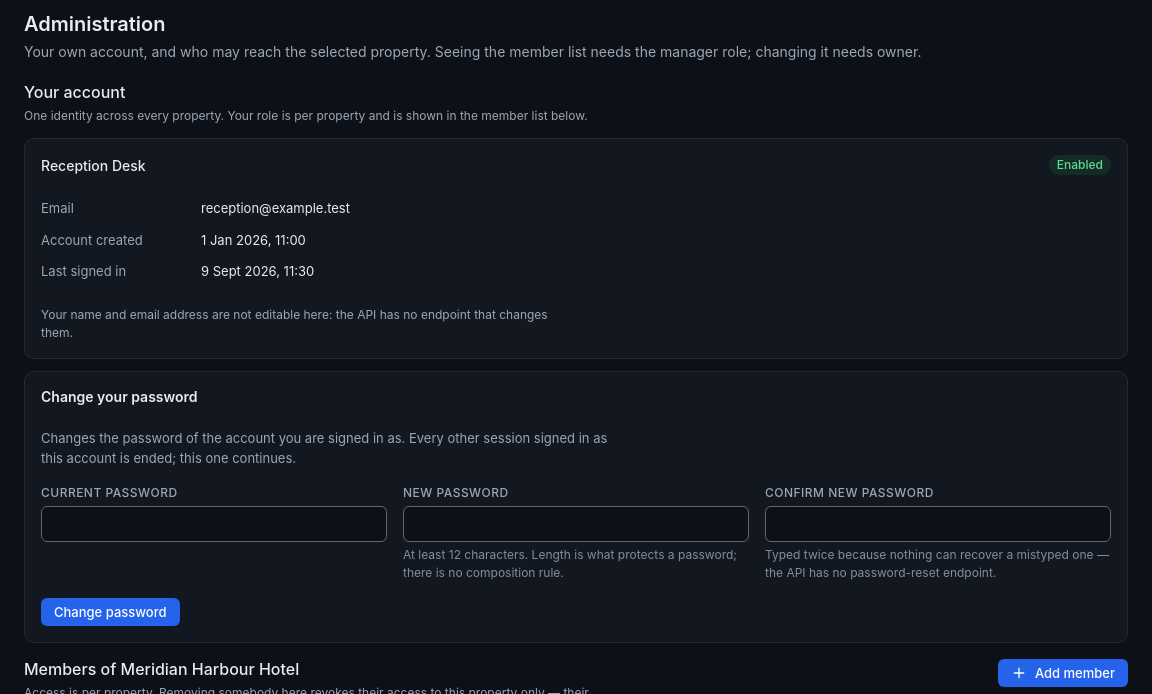
Scenario: adding a member › defaults to the lowest role
The width and height of the screenshot is (1152, 694).
Click the button "Add member" at (1063, 673), box [998,659,1128,687]
(page scrolled)
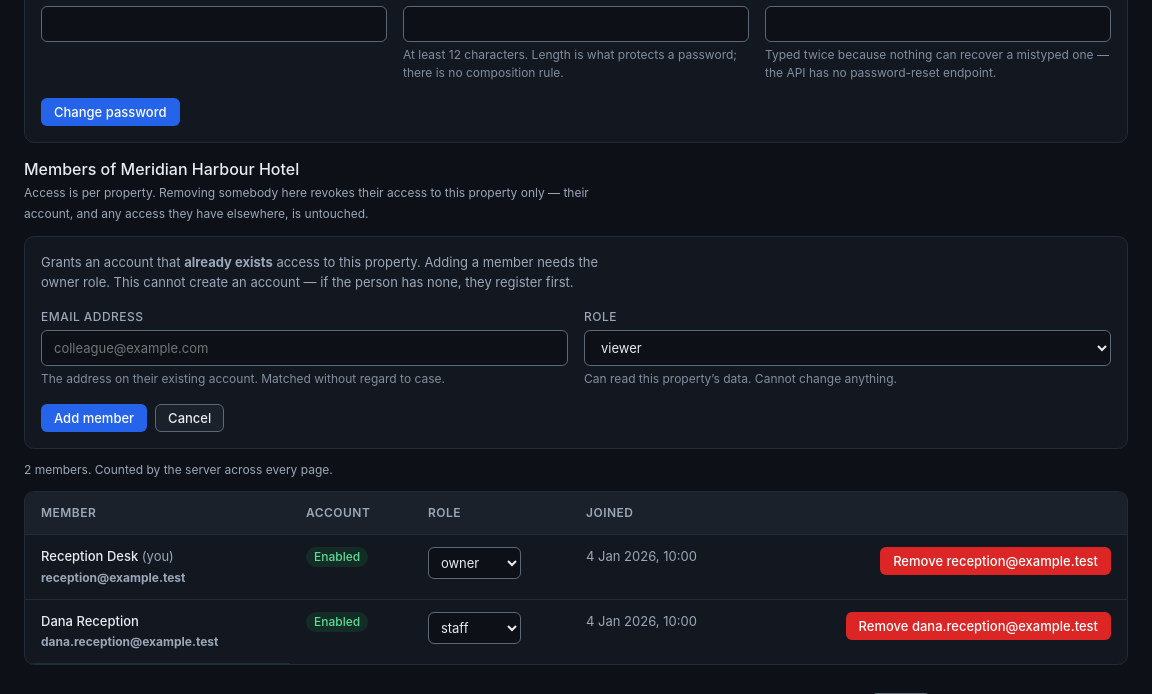
Expected: the dropdown labelled "Role" shows "viewer", [584,330,1111,366]
